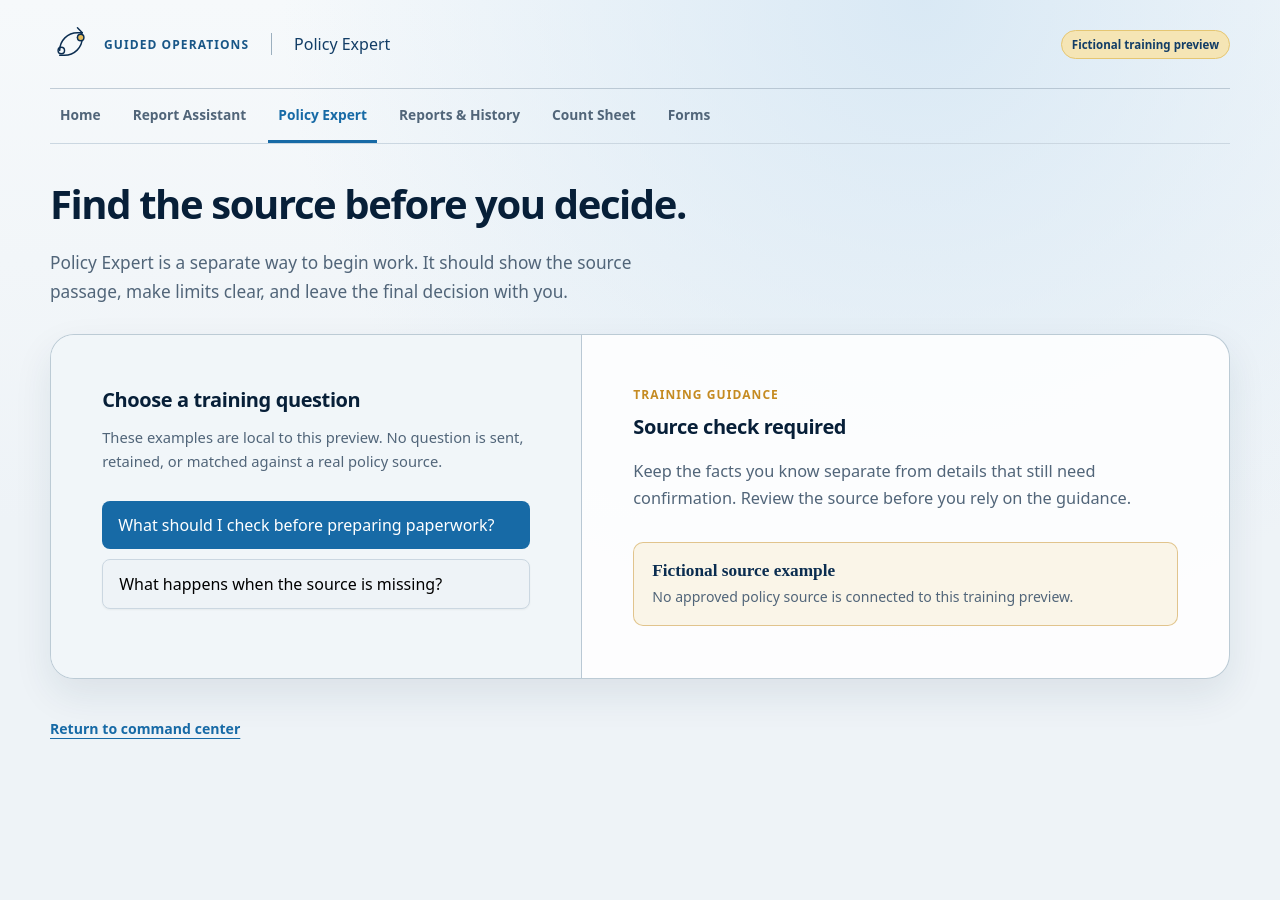
Test: PolicyTrainingPreview › changes only local fictional training guidance
Expected: the text "No approved policy source is connected to this training preview." is shown, top-left (652, 587), bottom-right (1073, 606)
Click the button "What happens when the source is missing?" at (316, 584), box top-left (102, 559), bottom-right (530, 609)
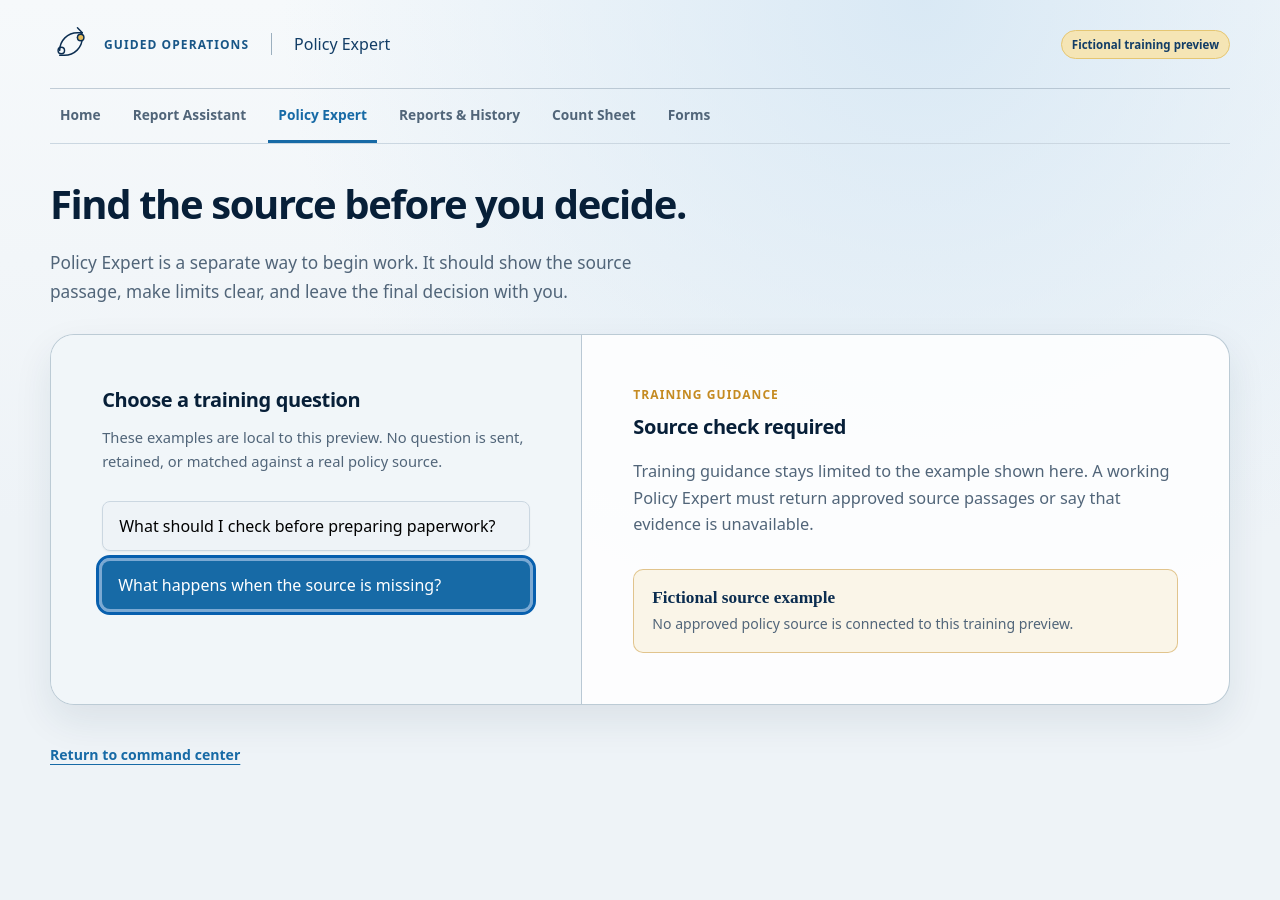
Now the text "must return approved source passages or say that evidence is unavailable" is shown, box top-left (633, 460), bottom-right (1170, 535)
